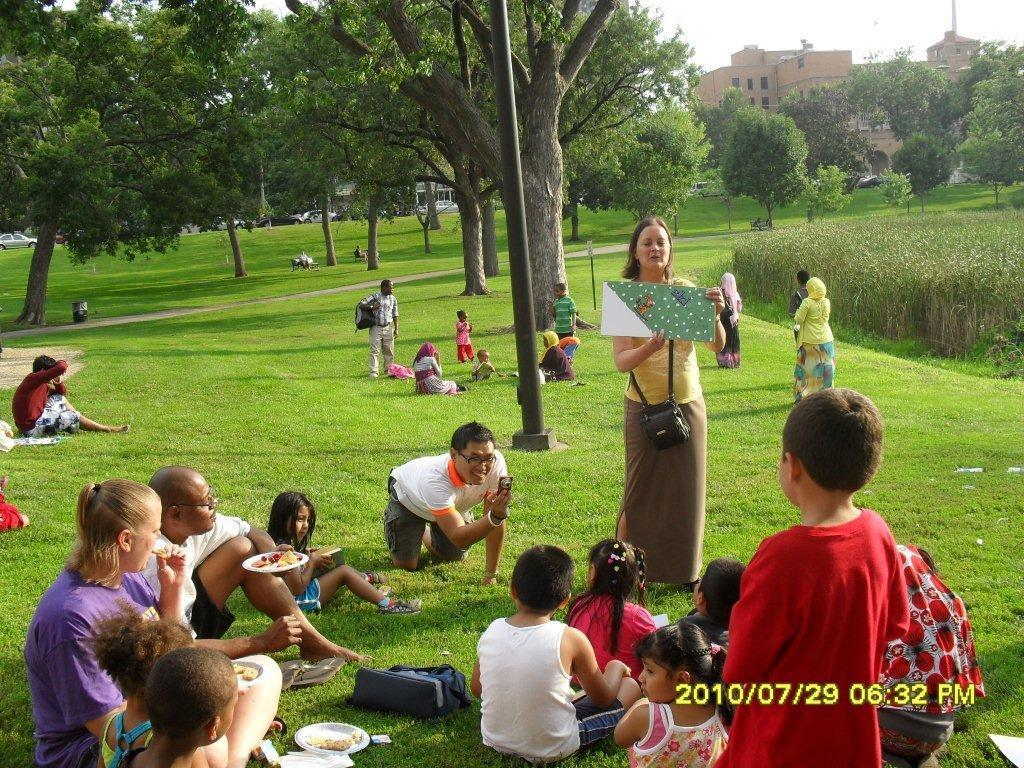face: (184, 476, 217, 534), (132, 509, 160, 575), (640, 658, 677, 702), (459, 441, 495, 486), (637, 227, 672, 272), (214, 684, 241, 738), (291, 508, 313, 540), (554, 285, 566, 298), (47, 366, 54, 384), (386, 283, 394, 296), (482, 354, 489, 364), (461, 313, 468, 322)
